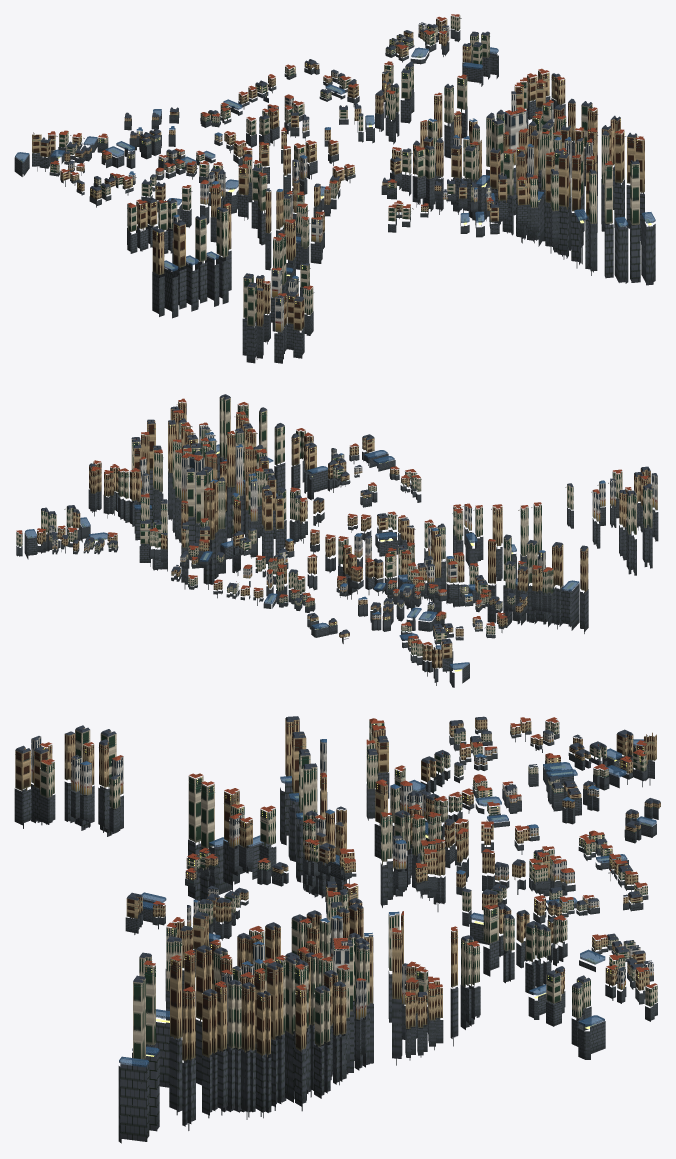
File: osm_buildings_T_E01_N00_Q3.glb
The picture shows the model from 3 angles, top to bottom: view 1: azimuth 30°, elevation 25°; view 2: azimuth 150°, elevation 25°; view 3: azimuth 270°, elevation 25°; orthographic projection. The views are drawn at different scales.
Visible parts, largest first — view 1: OSM_PBR_T_E01_N00_Q3_foundation, OSM_PBR_T_E01_N00_Q3_wall_french_ochre, OSM_PBR_T_E01_N00_Q3_wall_cream_stucco, OSM_PBR_T_E01_N00_Q3_roof_terracotta, OSM_PBR_T_E01_N00_Q3_roof_mansard_slate, OSM_PBR_T_E01_N00_Q3_greenhouse_blend, OSM_PBR_T_E01_N00_Q3_wall_pastel_sand, OSM_PBR_T_E01_N00_Q3_wall_warm_white, OSM_PBR_T_E01_N00_Q3_roof_mansard_deck, OSM_PBR_T_E01_N00_Q3_balcony_railing, OSM_PBR_T_E01_N00_Q3_roof_mint_metal, OSM_PBR_T_E01_N00_Q3_trim_cornice (+1 smaller); view 2: OSM_PBR_T_E01_N00_Q3_foundation, OSM_PBR_T_E01_N00_Q3_wall_french_ochre, OSM_PBR_T_E01_N00_Q3_wall_cream_stucco, OSM_PBR_T_E01_N00_Q3_roof_terracotta, OSM_PBR_T_E01_N00_Q3_roof_mansard_slate, OSM_PBR_T_E01_N00_Q3_wall_pastel_sand, OSM_PBR_T_E01_N00_Q3_greenhouse_blend, OSM_PBR_T_E01_N00_Q3_wall_warm_white, OSM_PBR_T_E01_N00_Q3_roof_mansard_deck, OSM_PBR_T_E01_N00_Q3_roof_mint_metal, OSM_PBR_T_E01_N00_Q3_trim_cornice; view 3: OSM_PBR_T_E01_N00_Q3_foundation, OSM_PBR_T_E01_N00_Q3_wall_french_ochre, OSM_PBR_T_E01_N00_Q3_wall_cream_stucco, OSM_PBR_T_E01_N00_Q3_roof_terracotta, OSM_PBR_T_E01_N00_Q3_roof_mansard_slate, OSM_PBR_T_E01_N00_Q3_greenhouse_blend, OSM_PBR_T_E01_N00_Q3_wall_pastel_sand, OSM_PBR_T_E01_N00_Q3_wall_warm_white, OSM_PBR_T_E01_N00_Q3_roof_mansard_deck, OSM_PBR_T_E01_N00_Q3_roof_mint_metal, OSM_PBR_T_E01_N00_Q3_trim_cornice, OSM_PBR_T_E01_N00_Q3_balcony_railing.
Part boxes in pixels (x1,y1,x2,y2): OSM_PBR_T_E01_N00_Q3_foundation: [14, 29, 655, 363]; OSM_PBR_T_E01_N00_Q3_wall_french_ochre: [32, 19, 644, 330]; OSM_PBR_T_E01_N00_Q3_wall_cream_stucco: [50, 15, 639, 326]; OSM_PBR_T_E01_N00_Q3_roof_terracotta: [48, 14, 644, 296]; OSM_PBR_T_E01_N00_Q3_roof_mansard_slate: [40, 22, 639, 301]; OSM_PBR_T_E01_N00_Q3_greenhouse_blend: [15, 47, 655, 273]; OSM_PBR_T_E01_N00_Q3_wall_pastel_sand: [110, 23, 571, 332]; OSM_PBR_T_E01_N00_Q3_wall_warm_white: [68, 27, 592, 297]; OSM_PBR_T_E01_N00_Q3_roof_mansard_deck: [23, 24, 654, 299]; OSM_PBR_T_E01_N00_Q3_balcony_railing: [34, 18, 642, 303]; OSM_PBR_T_E01_N00_Q3_roof_mint_metal: [33, 24, 642, 304]; OSM_PBR_T_E01_N00_Q3_trim_cornice: [33, 16, 641, 301]; OSM_PBR_T_E01_N00_Q3_foundation: [16, 451, 658, 687]; OSM_PBR_T_E01_N00_Q3_wall_french_ochre: [37, 401, 652, 668]; OSM_PBR_T_E01_N00_Q3_wall_cream_stucco: [16, 397, 652, 656]; OSM_PBR_T_E01_N00_Q3_roof_terracotta: [16, 398, 648, 645]; OSM_PBR_T_E01_N00_Q3_roof_mansard_slate: [41, 395, 657, 643]; OSM_PBR_T_E01_N00_Q3_wall_pastel_sand: [52, 434, 657, 607]; OSM_PBR_T_E01_N00_Q3_greenhouse_blend: [25, 444, 579, 669]; OSM_PBR_T_E01_N00_Q3_wall_warm_white: [49, 425, 600, 628]; OSM_PBR_T_E01_N00_Q3_roof_mansard_deck: [31, 394, 651, 668]; OSM_PBR_T_E01_N00_Q3_roof_mint_metal: [38, 400, 652, 655]; OSM_PBR_T_E01_N00_Q3_trim_cornice: [21, 398, 655, 648]; OSM_PBR_T_E01_N00_Q3_foundation: [14, 729, 658, 1143]; OSM_PBR_T_E01_N00_Q3_wall_french_ochre: [15, 718, 660, 1061]; OSM_PBR_T_E01_N00_Q3_wall_cream_stucco: [40, 720, 657, 1062]; OSM_PBR_T_E01_N00_Q3_roof_terracotta: [40, 717, 657, 995]; OSM_PBR_T_E01_N00_Q3_roof_mansard_slate: [15, 716, 660, 997]; OSM_PBR_T_E01_N00_Q3_greenhouse_blend: [119, 739, 656, 1067]; OSM_PBR_T_E01_N00_Q3_wall_pastel_sand: [31, 737, 653, 1019]; OSM_PBR_T_E01_N00_Q3_wall_warm_white: [111, 731, 625, 1043]; OSM_PBR_T_E01_N00_Q3_roof_mansard_deck: [17, 716, 658, 1065]; OSM_PBR_T_E01_N00_Q3_roof_mint_metal: [15, 724, 657, 1028]; OSM_PBR_T_E01_N00_Q3_trim_cornice: [19, 719, 655, 999]; OSM_PBR_T_E01_N00_Q3_balcony_railing: [41, 721, 659, 998].
Bounding box in the file's own units: 995 × 258 × 909.
18 materials, 16 textured.
